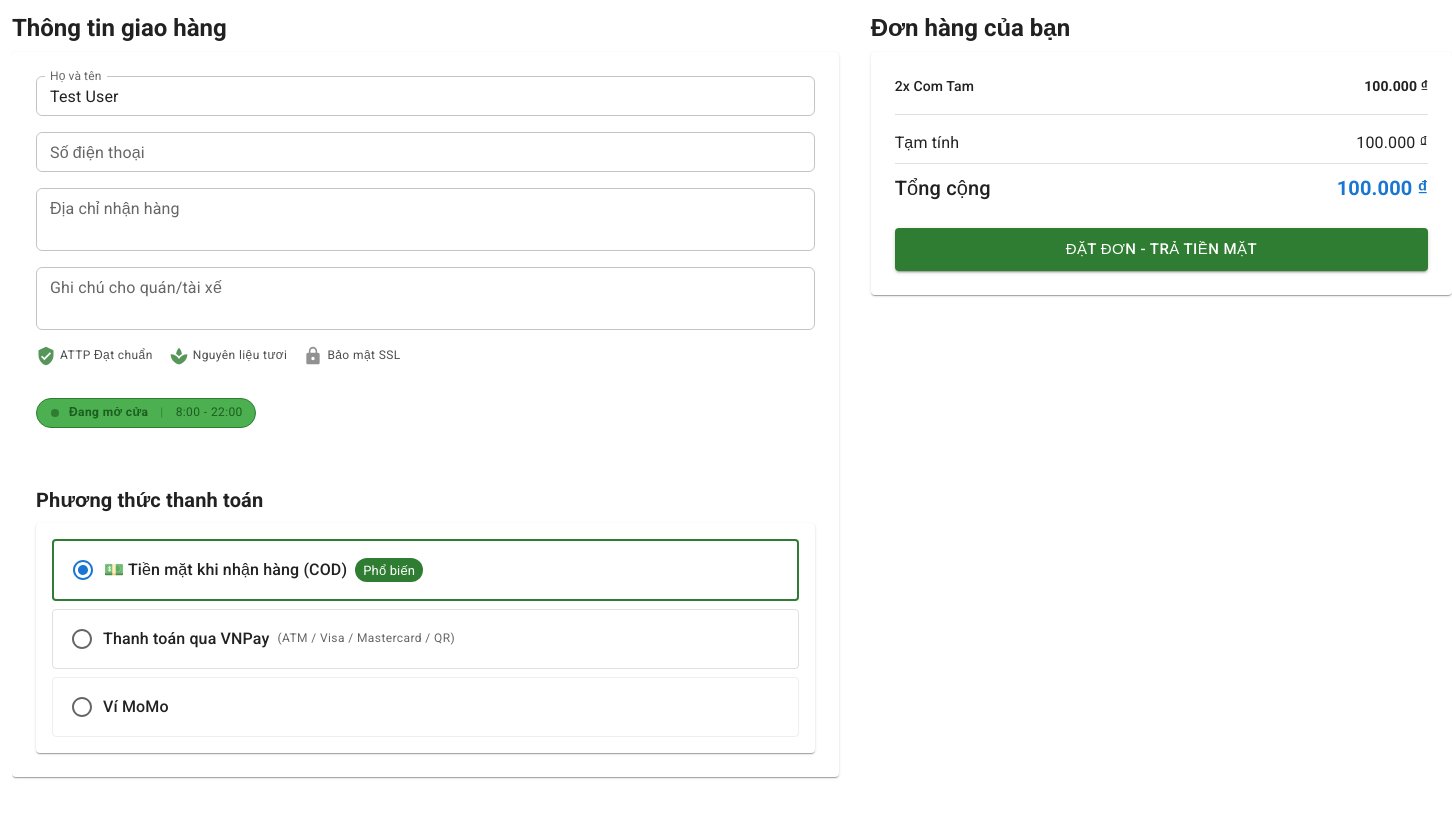
it: CheckoutPage › validates form fields
Step 1. Click the button "Đặt đơn - Trả tiền mặt" → (1161, 250), box 895,228 -> 1428,271
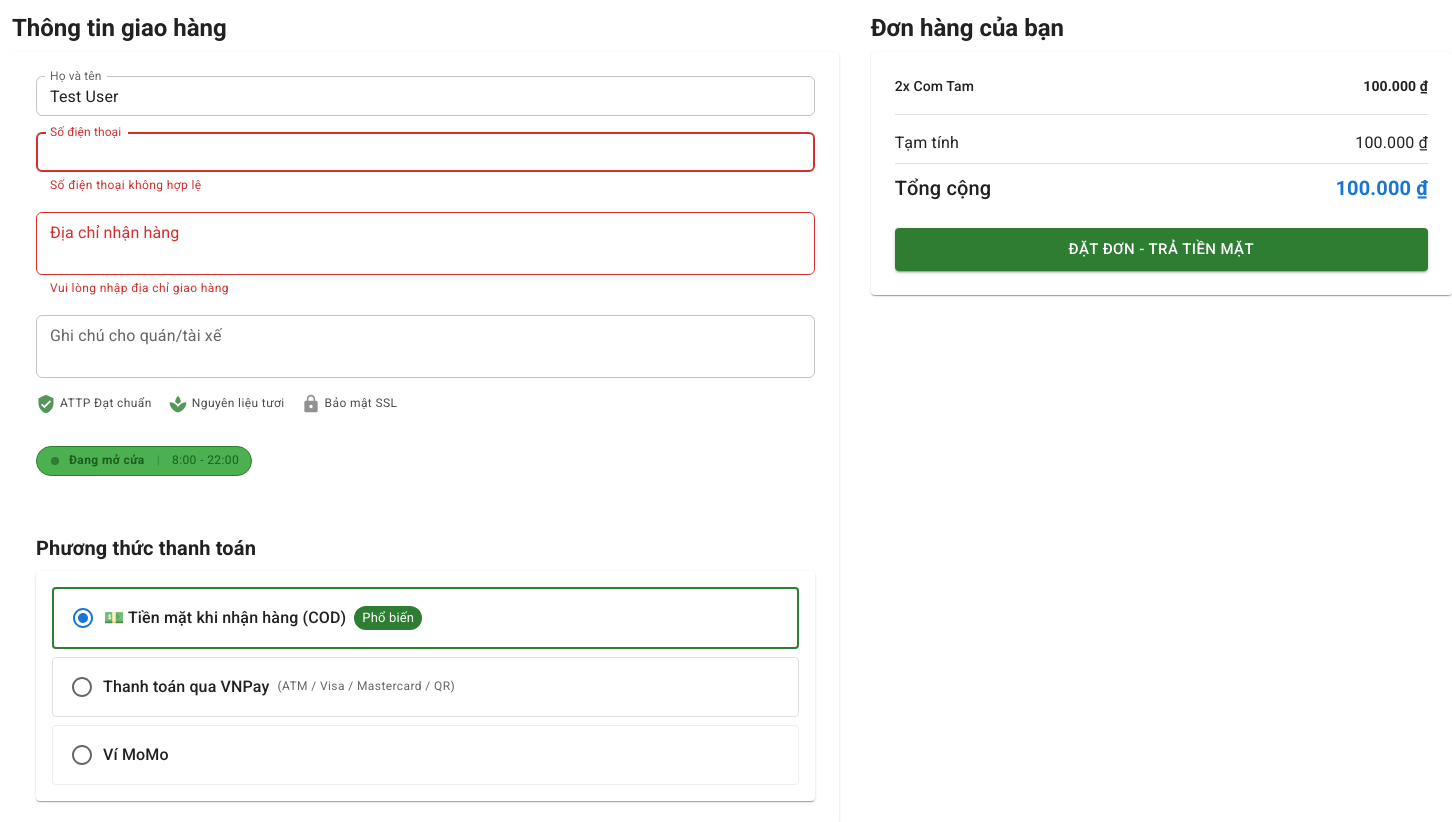
Expected: the text "Số điện thoại không hợp lệ" is shown, 50,178 -> 202,192
Expected: the text "Vui lòng nhập địa chỉ giao hàng" is shown, 50,281 -> 229,295
